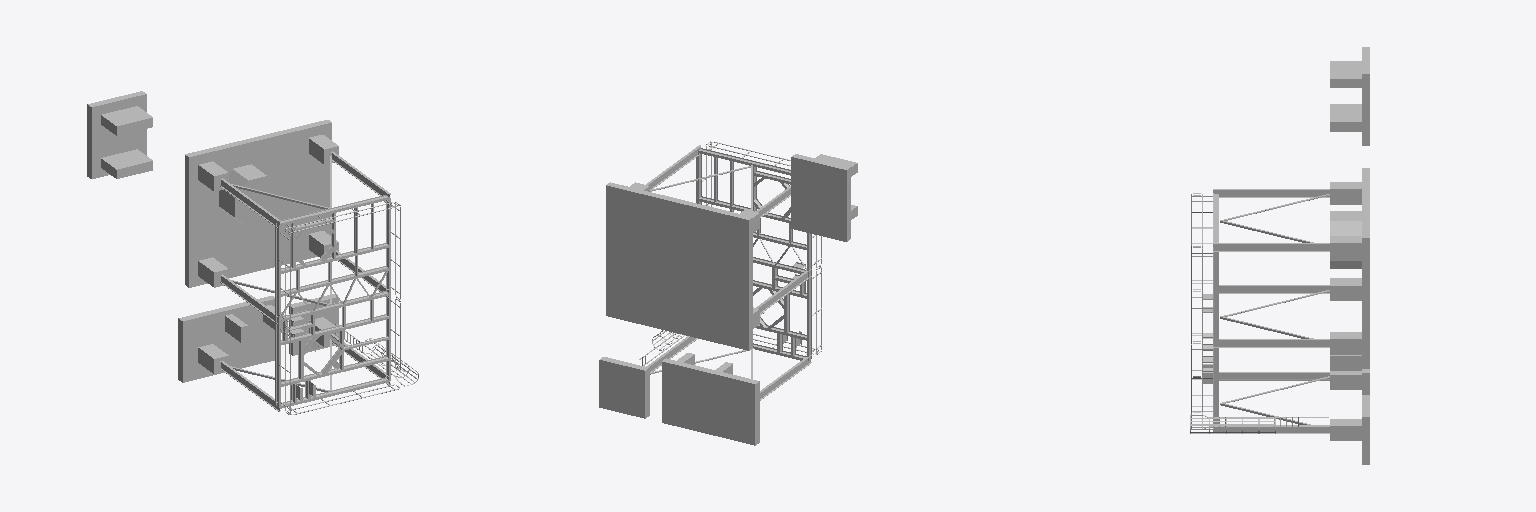
File: str1.obj
3 renders of one model, left to right at view 1: azimuth 30°, elevation 25°; view 2: azimuth 150°, elevation 25°; view 3: azimuth 270°, elevation 25°, orthographic.
Parts seen in each view (by area): view 1: product-56c6abf3-[number redacted]-[number redacted]-body, product-56c6abf3-[number redacted]-[number redacted]-body, product-56c6abf3-[number redacted]-[number redacted]-body, product-56c6abf3-0000-020f-3134-[number redacted]-body, product-56c6abf3-0000-024e-3134-[number redacted]-body, product-56c6abf3-[number redacted]-[number redacted]-body, product-56c6abf3-0000-021b-3134-[number redacted]-body, product-56c6abf3-0000-01ff-3134-[number redacted]-body, product-56c6abf3-0000-01fb-3134-[number redacted]-body, product-56c6abf3-0000-01f7-3134-[number redacted]-body, product-56c6abf3-0000-01db-3134-[number redacted]-body, product-56c6abf3-[number redacted]-[number redacted]-body (+11 smaller); view 2: product-56c6abf3-[number redacted]-[number redacted]-body, product-56c6abf3-[number redacted]-[number redacted]-body, product-56c6abf3-[number redacted]-[number redacted]-body, product-56c6abf3-0000-021b-3134-[number redacted]-body, product-56c6abf3-0000-01db-3134-[number redacted]-body; view 3: product-56c6abf3-[number redacted]-[number redacted]-body, product-56c6abf3-0000-020f-3134-[number redacted]-body, product-56c6abf3-0000-01cf-3134-[number redacted]-body, product-56c6abf3-0000-01d3-3134-[number redacted]-body, product-56c6abf3-0000-01cb-3134-[number redacted]-body, product-56c6abf3-0000-01c7-3134-[number redacted]-body, product-56c6abf3-0000-01c3-3134-[number redacted]-body, product-56c6abf3-0000-024e-3134-[number redacted]-body, product-56c6abf3-[number redacted]-[number redacted]-body, product-56c6abf3-[number redacted]-[number redacted]-body, product-56c6abf3-[number redacted]-[number redacted]-body, product-56c6abf3-[number redacted]-[number redacted]-body (+7 smaller).
Boxes of the visible parts, x1=… form: product-56c6abf3-[number redacted]-[number redacted]-body: x1=185, y1=120, x2=331, y2=287; product-56c6abf3-[number redacted]-[number redacted]-body: x1=178, y1=296, x2=274, y2=382; product-56c6abf3-[number redacted]-[number redacted]-body: x1=87, y1=91, x2=146, y2=178; product-56c6abf3-0000-020f-3134-[number redacted]-body: x1=219, y1=164, x2=280, y2=228; product-56c6abf3-0000-024e-3134-[number redacted]-body: x1=101, y1=149, x2=152, y2=178; product-56c6abf3-[number redacted]-[number redacted]-body: x1=101, y1=106, x2=152, y2=135; product-56c6abf3-0000-021b-3134-[number redacted]-body: x1=289, y1=294, x2=338, y2=355; product-56c6abf3-0000-01ff-3134-[number redacted]-body: x1=198, y1=344, x2=228, y2=373; product-56c6abf3-0000-01fb-3134-[number redacted]-body: x1=198, y1=257, x2=228, y2=287; product-56c6abf3-0000-01f7-3134-[number redacted]-body: x1=198, y1=161, x2=228, y2=191; product-56c6abf3-0000-01db-3134-[number redacted]-body: x1=280, y1=195, x2=389, y2=225; product-56c6abf3-[number redacted]-[number redacted]-body: x1=309, y1=135, x2=338, y2=164; product-56c6abf3-[number redacted]-[number redacted]-body: x1=606, y1=182, x2=752, y2=350; product-56c6abf3-[number redacted]-[number redacted]-body: x1=662, y1=358, x2=759, y2=445; product-56c6abf3-[number redacted]-[number redacted]-body: x1=791, y1=154, x2=850, y2=241; product-56c6abf3-0000-021b-3134-[number redacted]-body: x1=599, y1=357, x2=649, y2=418; product-56c6abf3-0000-01db-3134-[number redacted]-body: x1=698, y1=148, x2=790, y2=175; product-56c6abf3-[number redacted]-[number redacted]-body: x1=1362, y1=168, x2=1369, y2=368; product-56c6abf3-0000-020f-3134-[number redacted]-body: x1=1330, y1=211, x2=1361, y2=268; product-56c6abf3-0000-01cf-3134-[number redacted]-body: x1=1213, y1=243, x2=1329, y2=251; product-56c6abf3-0000-01d3-3134-[number redacted]-body: x1=1213, y1=339, x2=1329, y2=347; product-56c6abf3-0000-01cb-3134-[number redacted]-body: x1=1213, y1=189, x2=1329, y2=197; product-56c6abf3-0000-01c7-3134-[number redacted]-body: x1=1219, y1=285, x2=1329, y2=293; product-56c6abf3-0000-01c3-3134-[number redacted]-body: x1=1219, y1=372, x2=1329, y2=380; product-56c6abf3-0000-024e-3134-[number redacted]-body: x1=1330, y1=104, x2=1361, y2=131; product-56c6abf3-[number redacted]-[number redacted]-body: x1=1330, y1=61, x2=1361, y2=87; product-56c6abf3-[number redacted]-[number redacted]-body: x1=1362, y1=47, x2=1369, y2=145; product-56c6abf3-[number redacted]-[number redacted]-body: x1=1330, y1=332, x2=1361, y2=354; product-56c6abf3-[number redacted]-[number redacted]-body: x1=1330, y1=236, x2=1361, y2=258.
Bounding box in the file's own units: 13460 × 15489 × 8492.